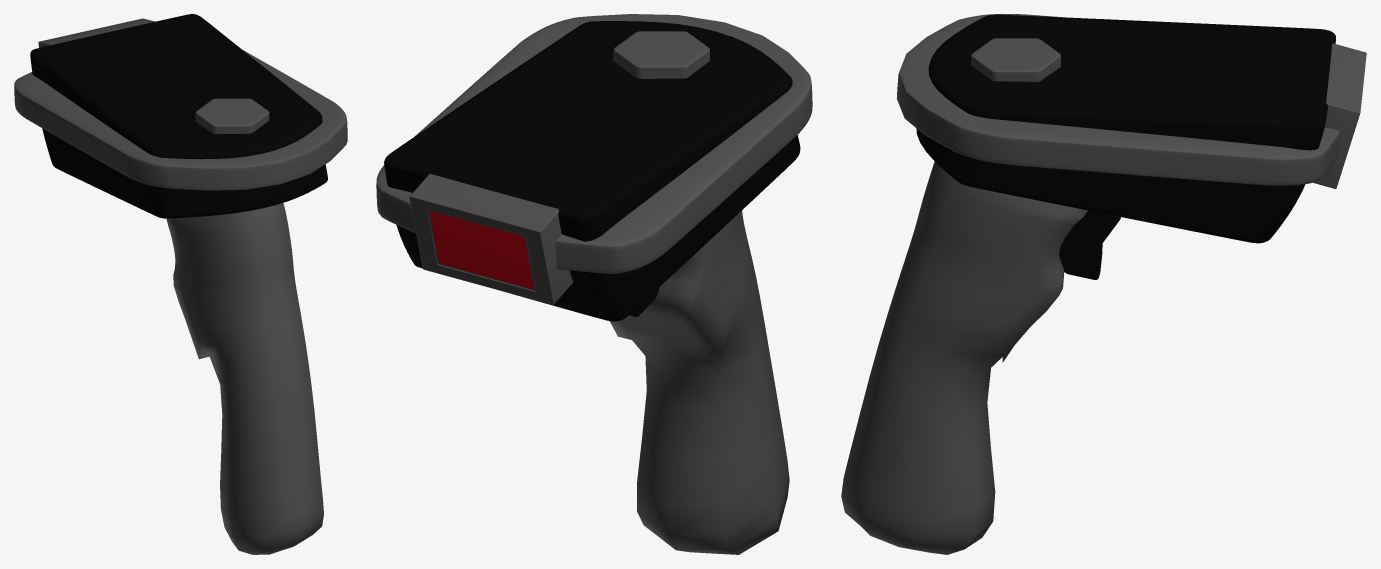
Rendered from Scanner.fbx.
3 views of the same model, side by side, from view 1: azimuth 30°, elevation 25°; view 2: azimuth 150°, elevation 25°; view 3: azimuth 270°, elevation 25° (orthographic). The views are drawn at different scales.
Visible parts, largest first — view 1: Cube.001; view 2: Cube.001; view 3: Cube.001.
Boxes of the visible parts, left/top/right/bottom form: Cube.001: left=14, top=14, right=347, bottom=554; Cube.001: left=376, top=14, right=812, bottom=554; Cube.001: left=841, top=14, right=1366, bottom=554.
Bounding box in the file's own units: 252 × 462 × 446.
